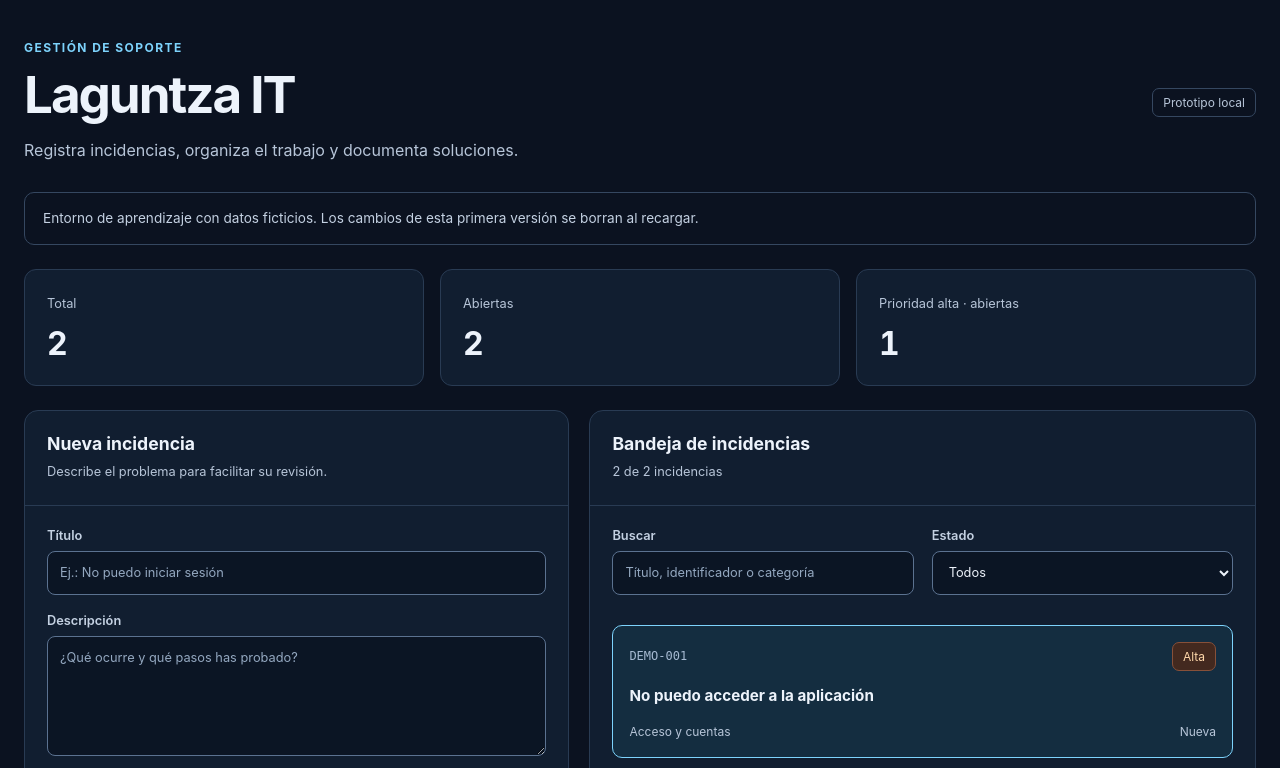
Scenario: crear incidencias › añade la incidencia, la selecciona y vacía el formulario
Type "  Sin conexión  " into the field labelled "Título". click: (297, 573)
box: [47,551,546,595]
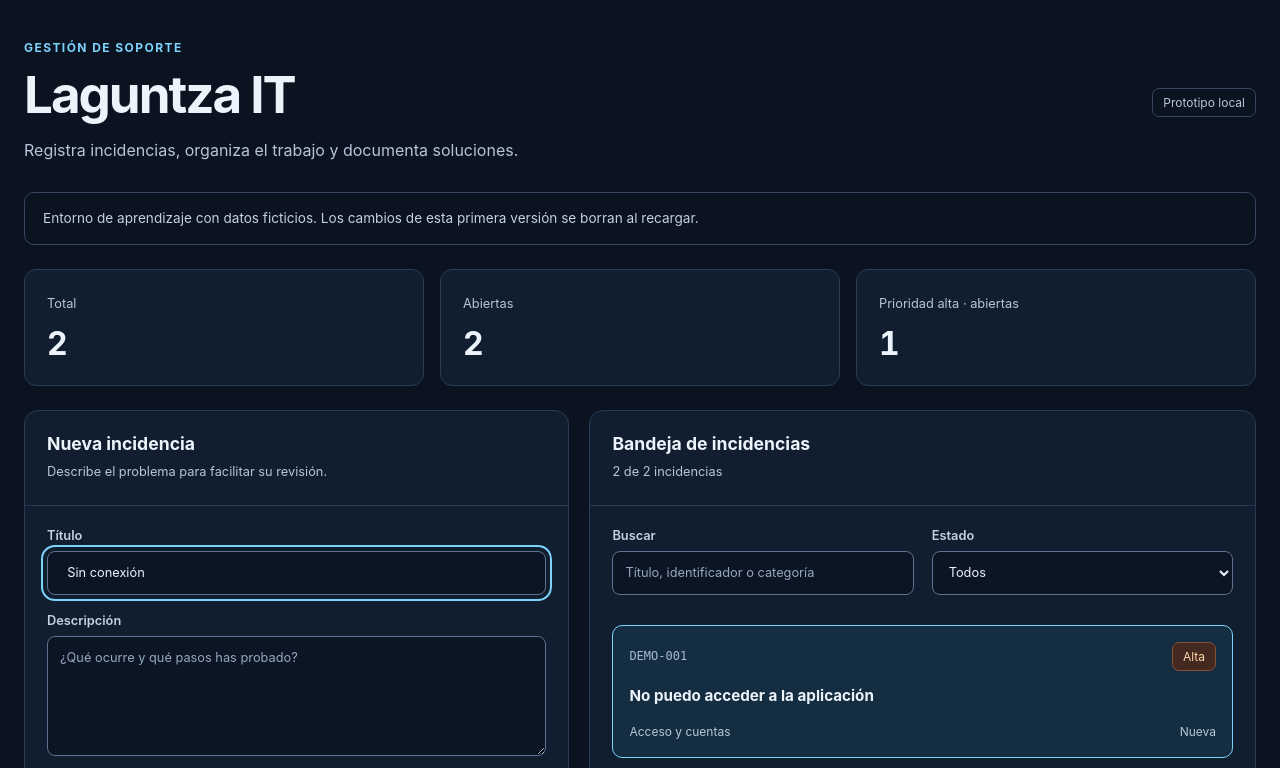
Type "La red no responde hoy." into the text box labelled "Descripción". click: (297, 696)
box: [47,636,546,756]
(page scrolled)
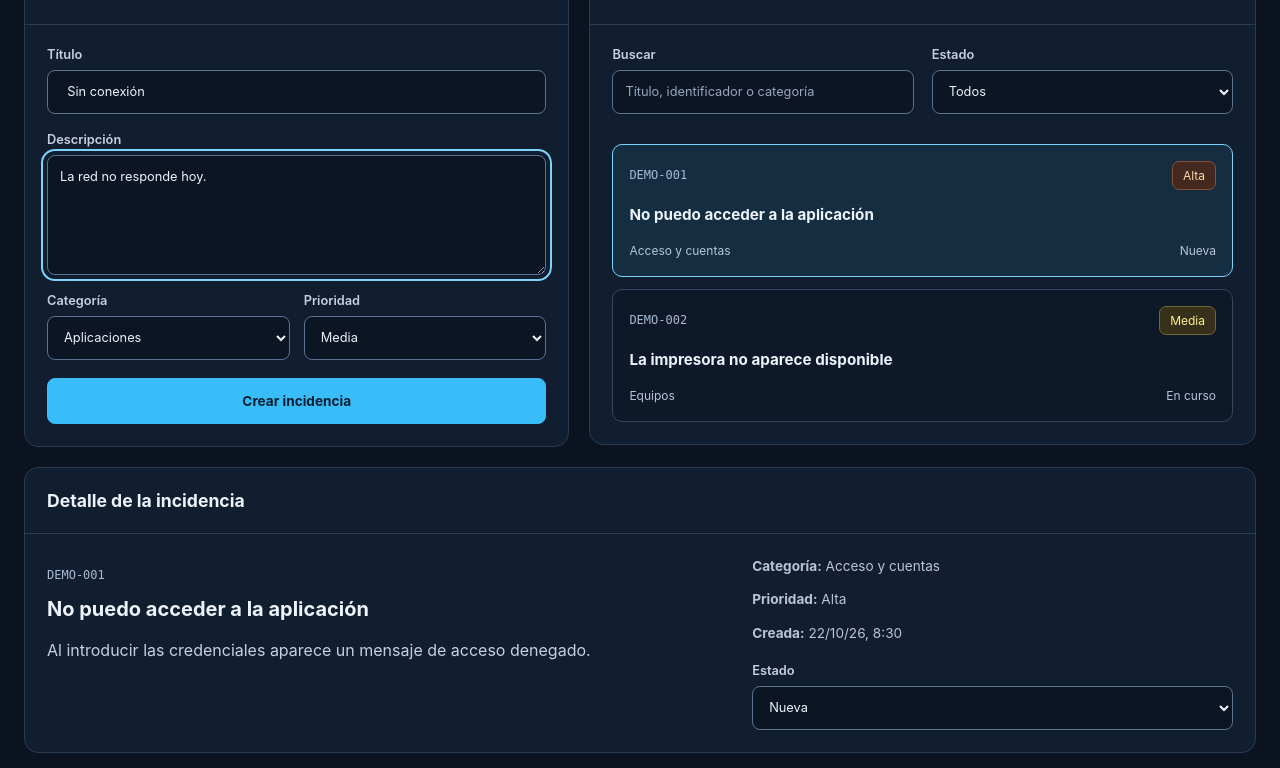
Click the button "Crear incidencia". click: click(297, 401)
box: [47,378,546,424]
(page scrolled)
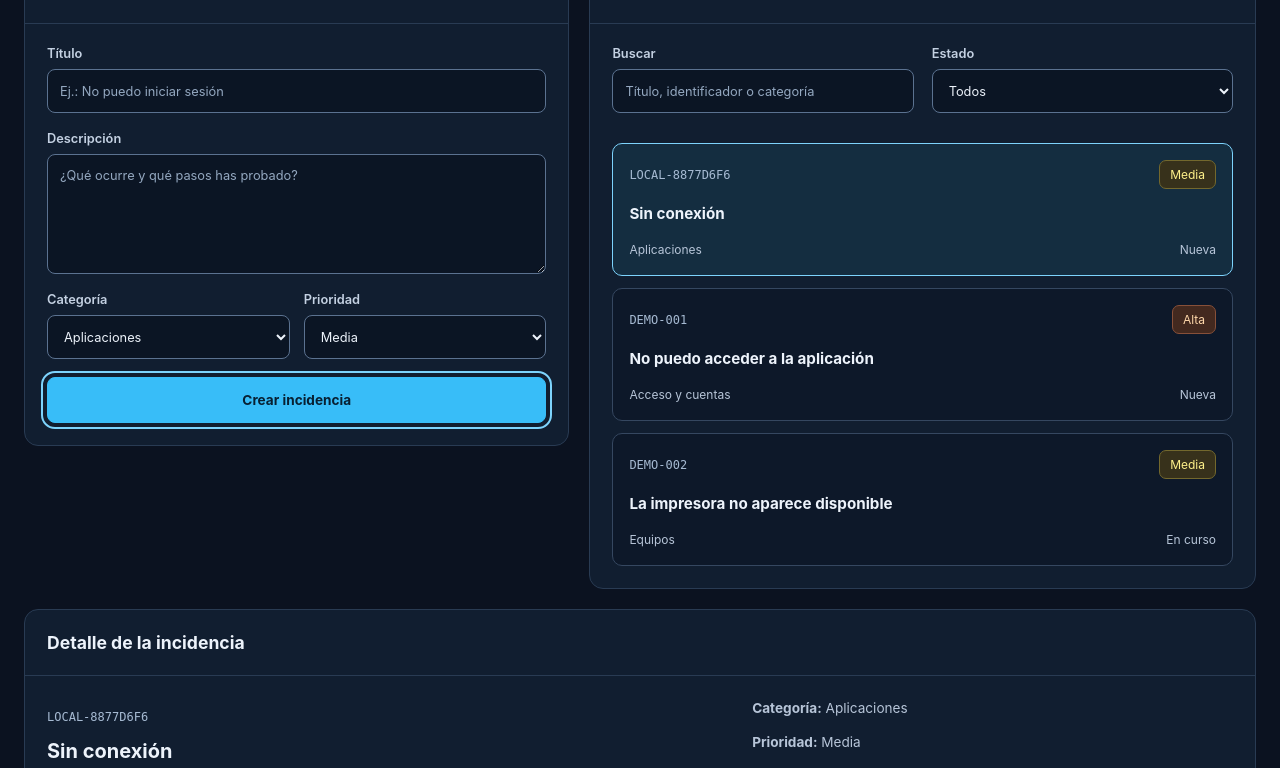
Expected: the heading "Sin conexión" is shown, [47,739,172,763]
Expected: the field labelled "Título" is empty, [47,70,546,114]
Expected: the text box labelled "Descripción" is empty, [47,154,546,274]
